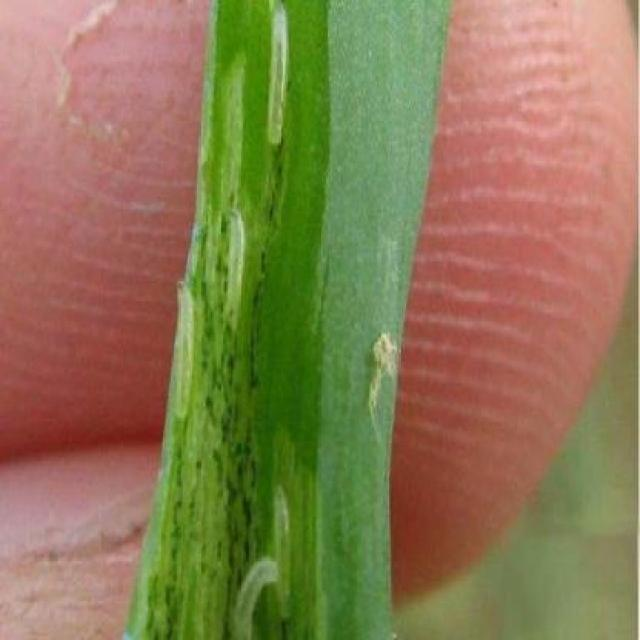whorl-maggot: (262, 1, 298, 156), (266, 465, 300, 620), (229, 544, 281, 640), (220, 198, 249, 331), (172, 270, 198, 418)
